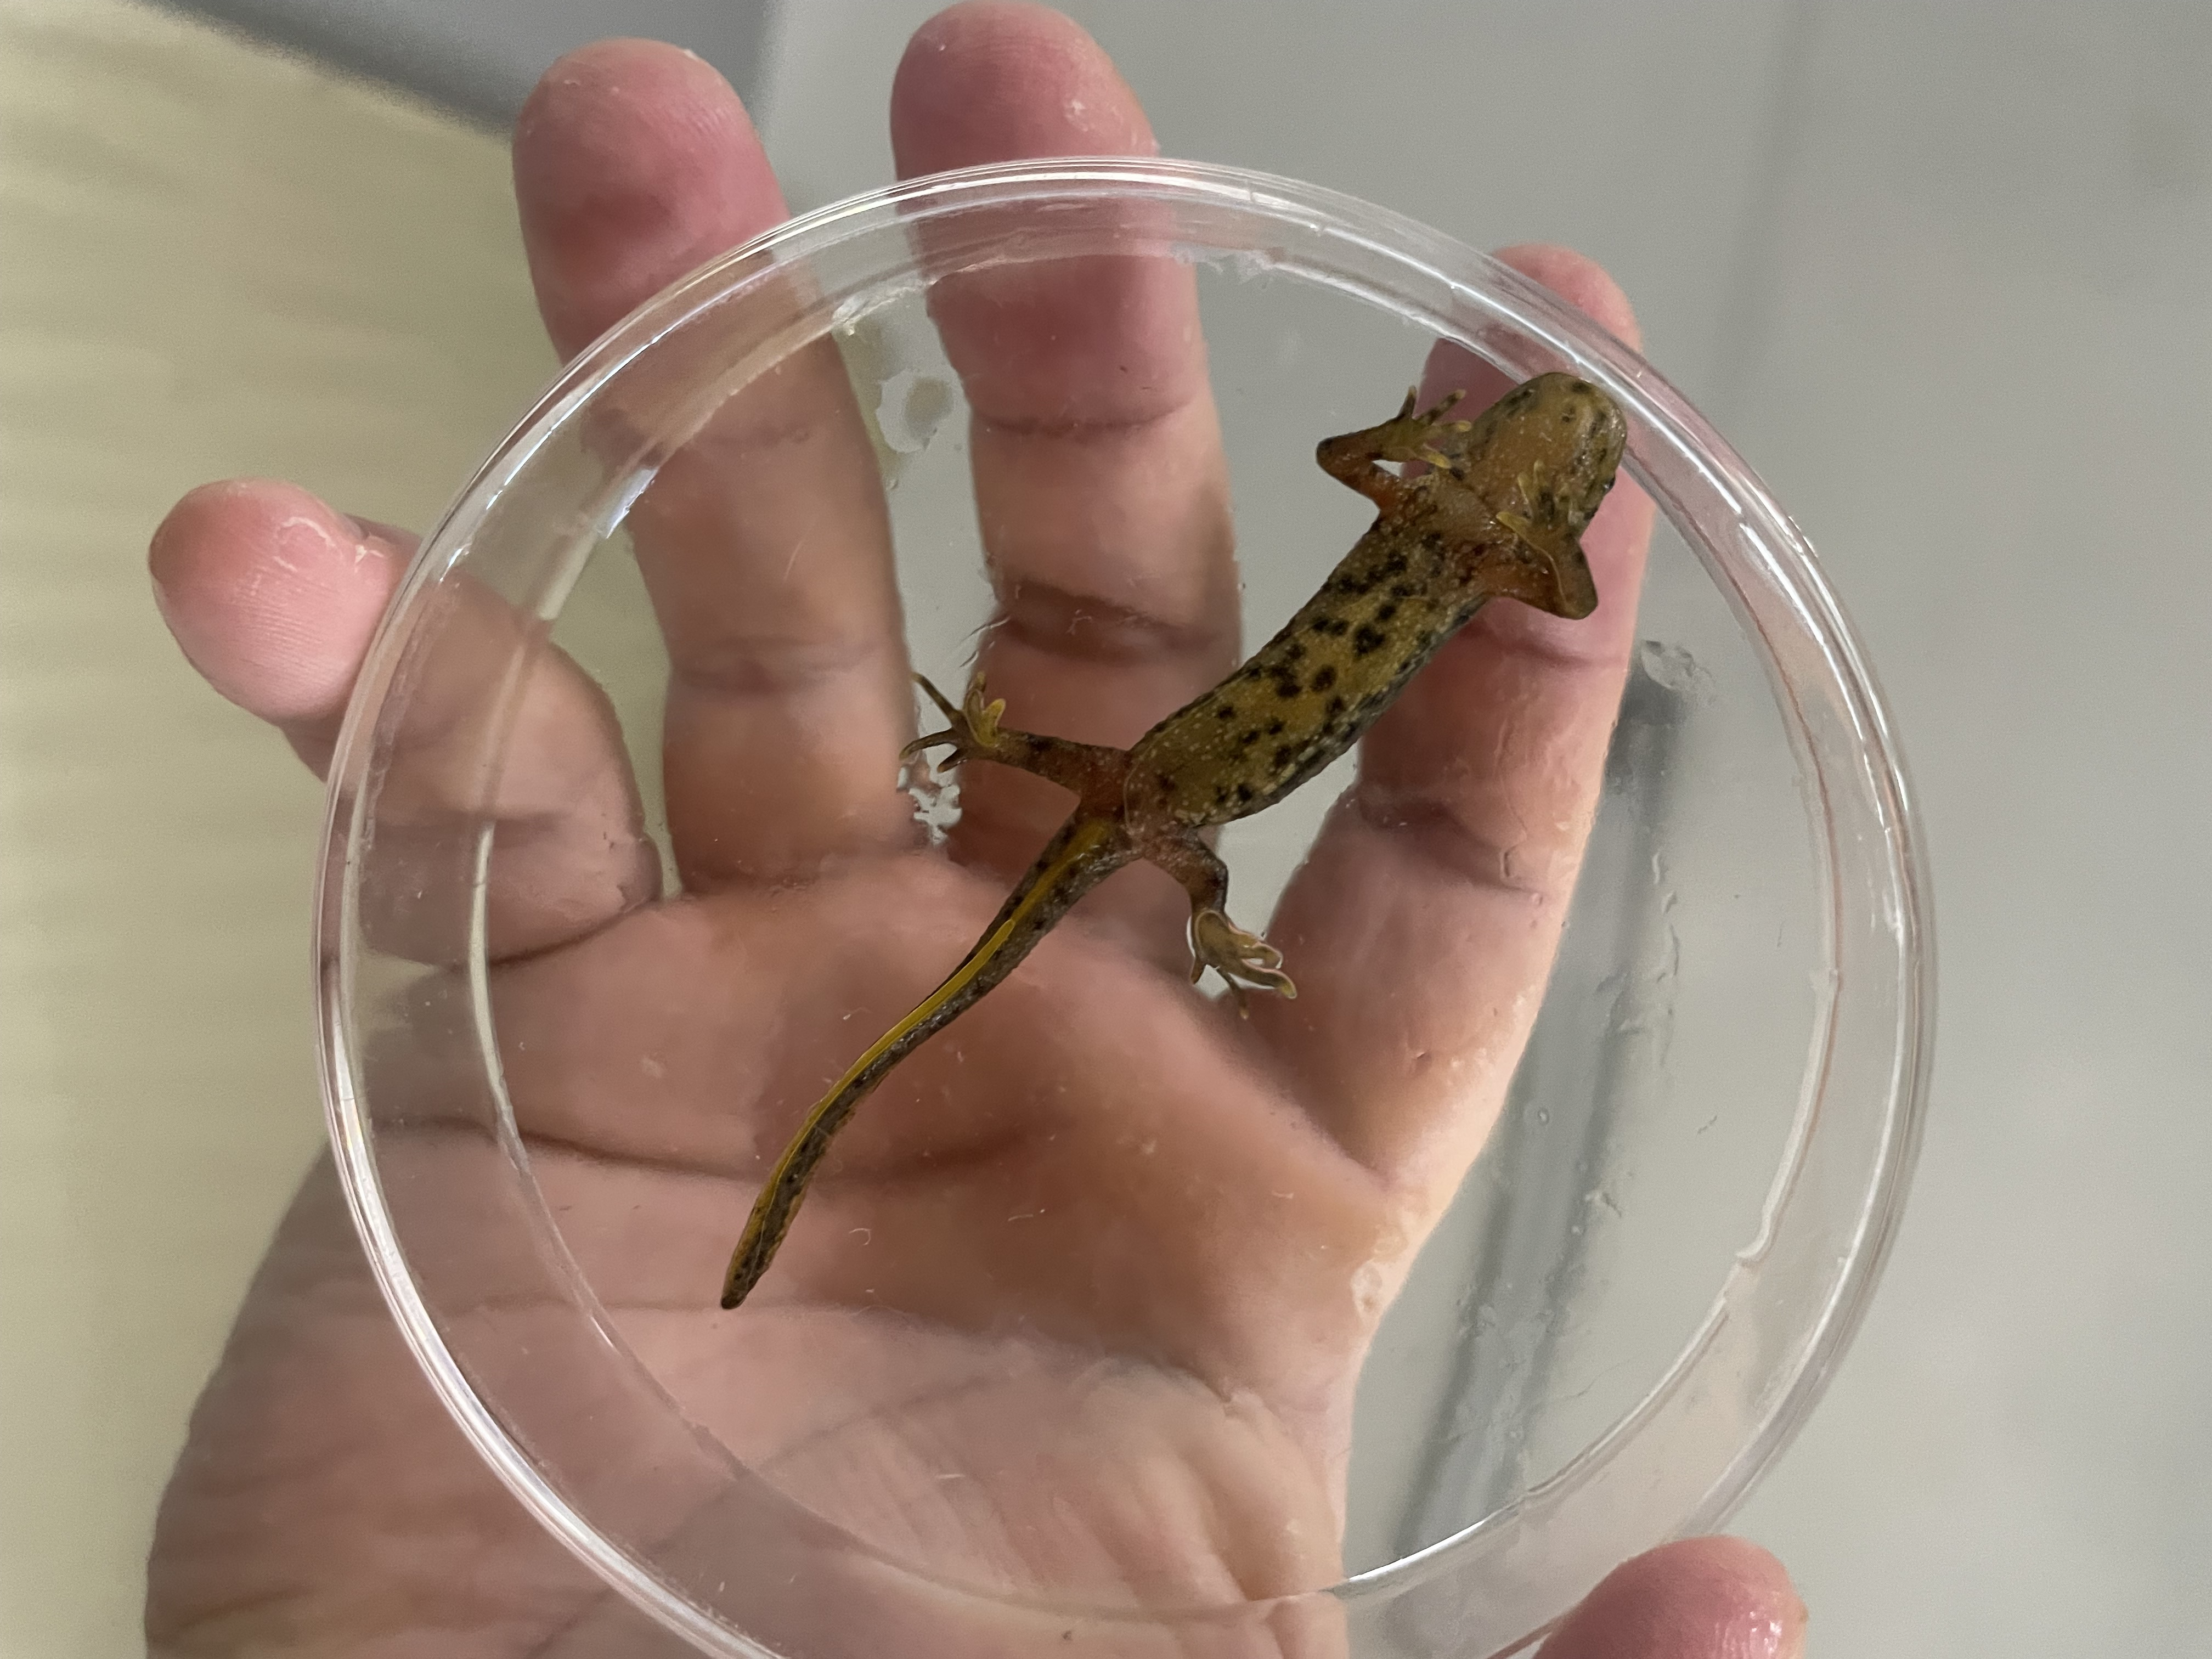newt_ribbed: (1127, 511, 1494, 830)
